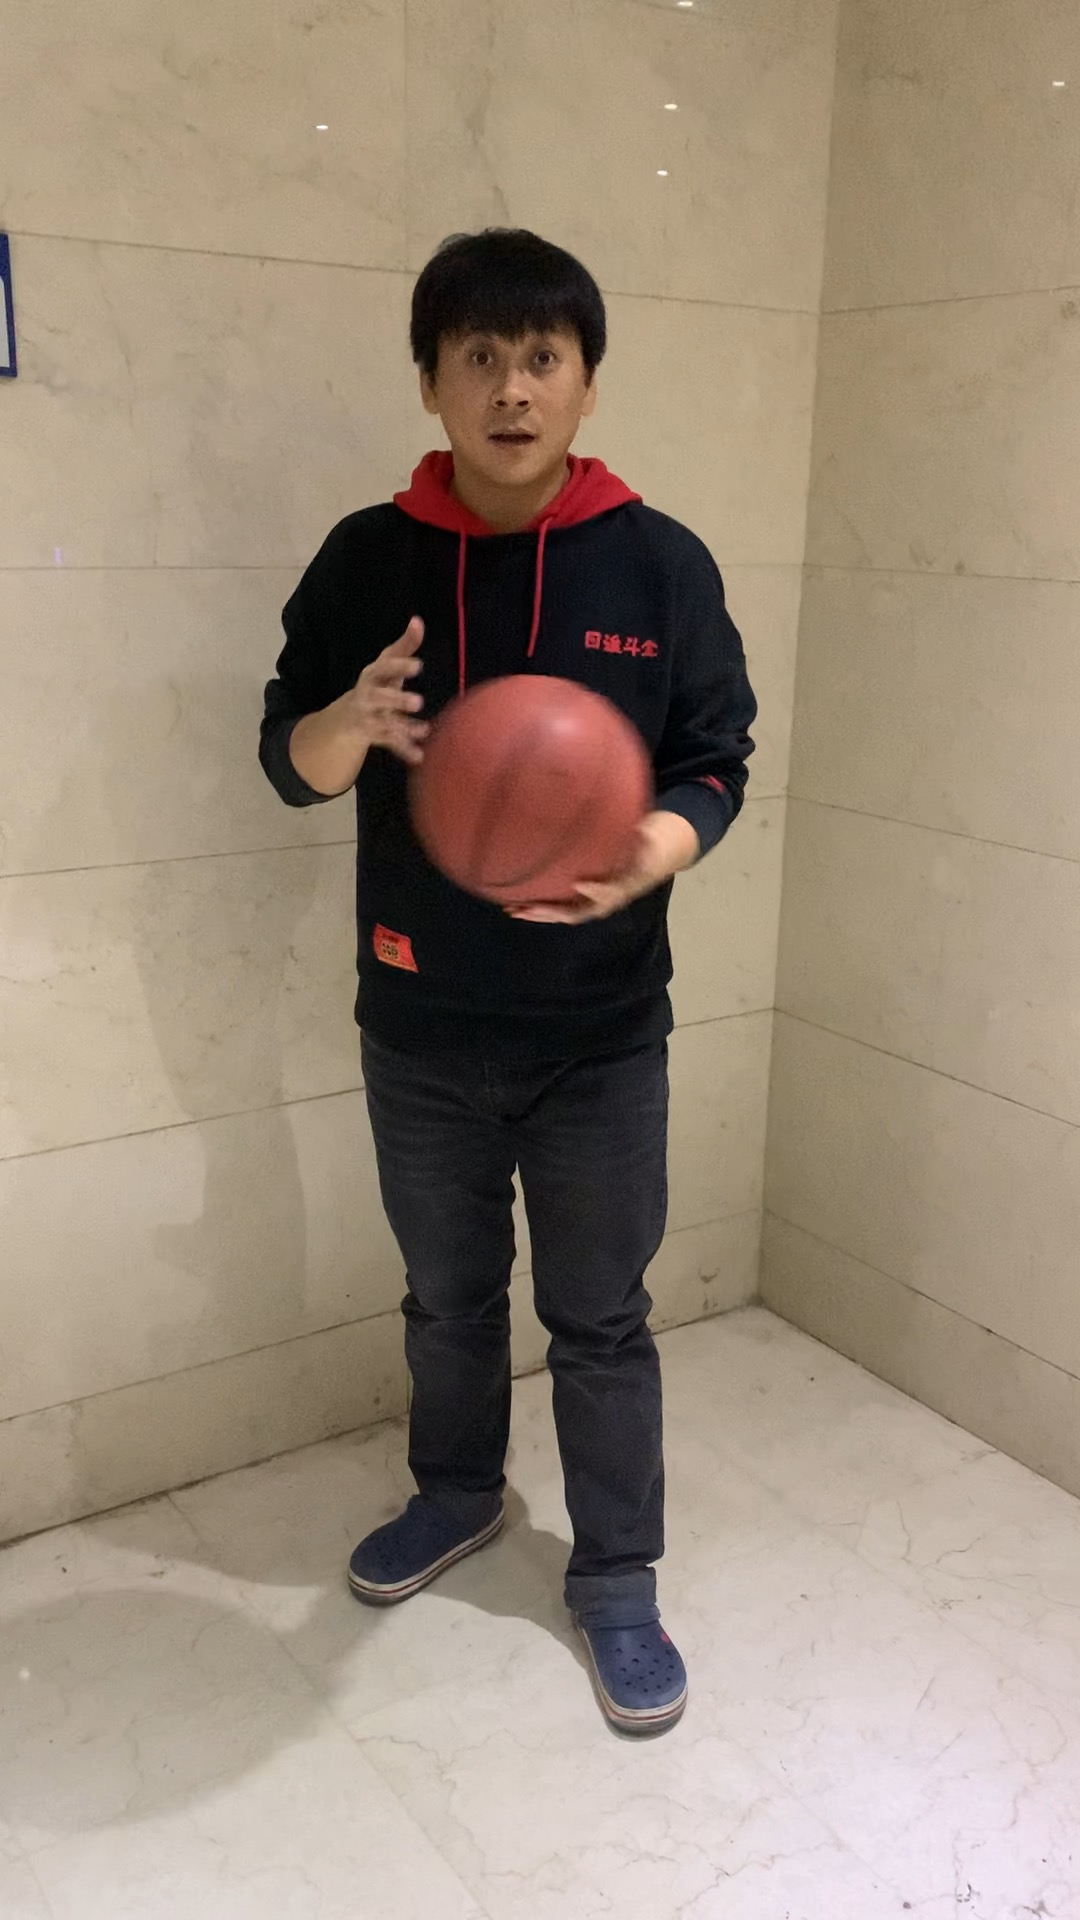ball: (409, 670, 650, 913)
